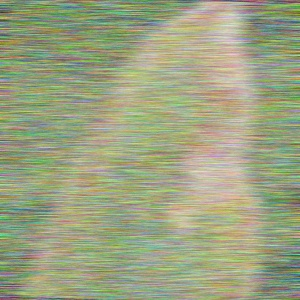Leaf_Blast: (74, 4, 261, 298)
